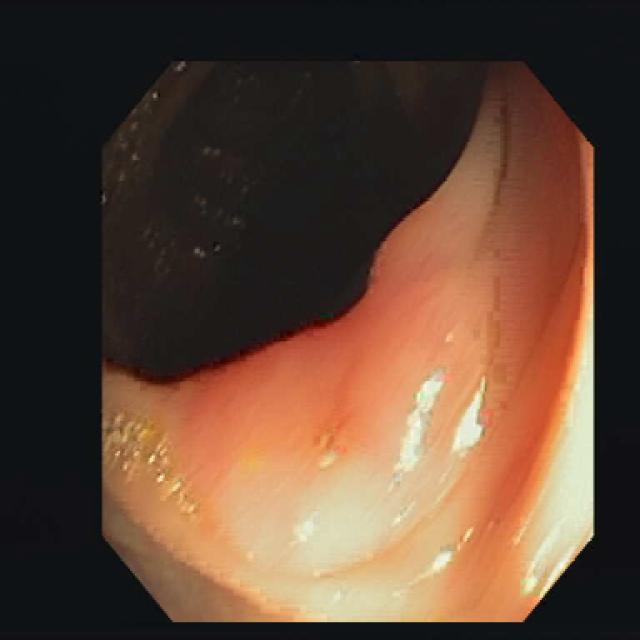tumor: (123, 188, 437, 469)
